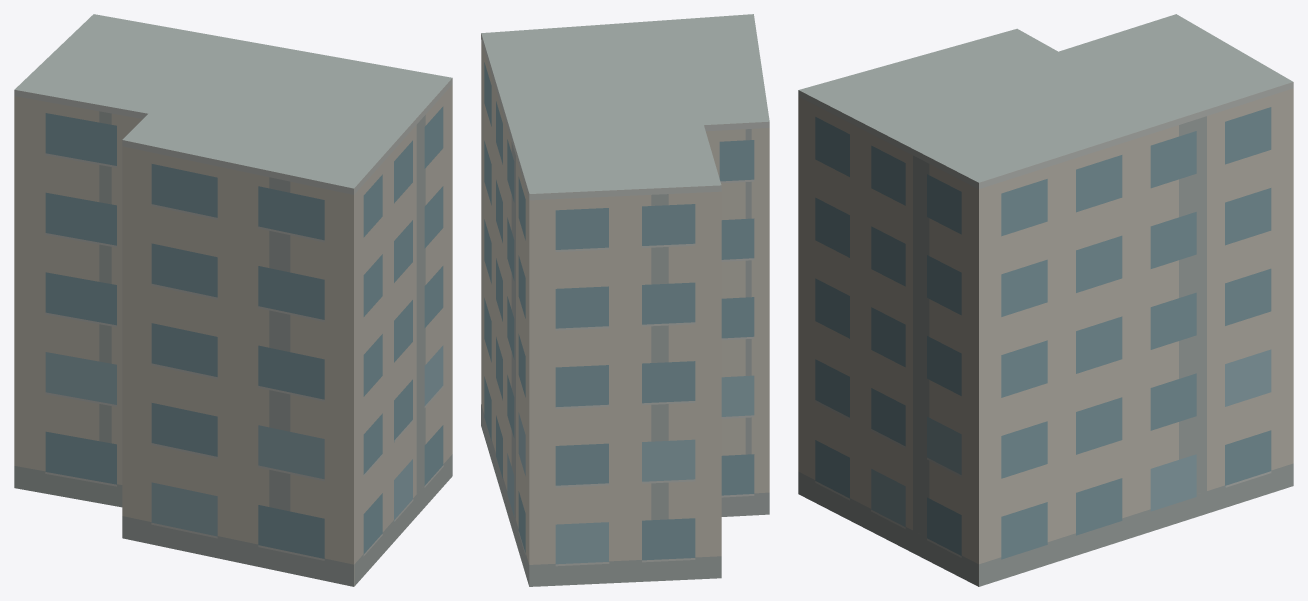
The model's file is survey-upis-32800566.glb.
3 renders of one model, left to right at view 1: azimuth 30°, elevation 25°; view 2: azimuth 150°, elevation 25°; view 3: azimuth 270°, elevation 25°, orthographic. The views are drawn at different scales.
Parts seen in each view (by area): view 1: survey-upis-32800566.tmp; view 2: survey-upis-32800566.tmp; view 3: survey-upis-32800566.tmp.
Boxes of the visible parts, x1=… form: survey-upis-32800566.tmp: x1=14, y1=14, x2=452, y2=586; survey-upis-32800566.tmp: x1=481, y1=14, x2=769, y2=586; survey-upis-32800566.tmp: x1=798, y1=14, x2=1293, y2=586.
Size of the model in its own units: 13.67 by 15.25 by 16.94.
